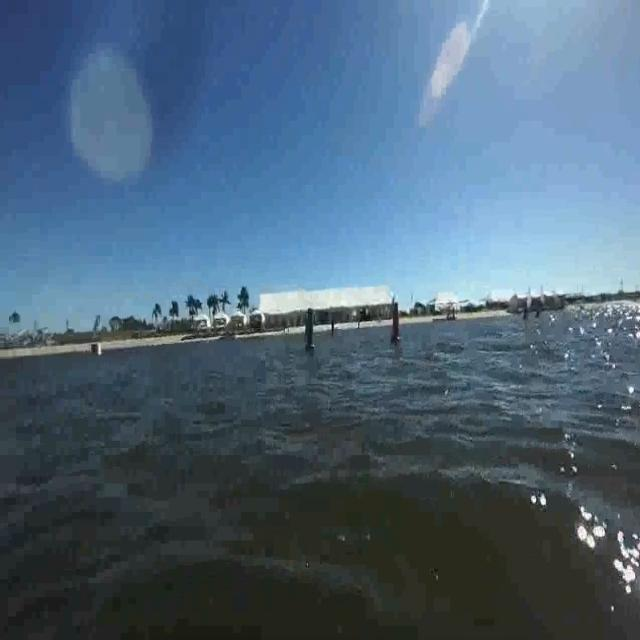green-column-buoy: (305, 309, 316, 353)
red-column-buoy: (388, 301, 401, 344)
